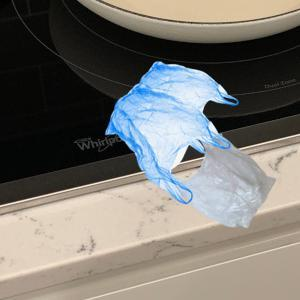plastic_bag: (100, 57, 241, 207)
